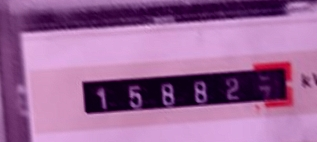1: (94, 86, 110, 111)
2: (224, 76, 240, 101)
5: (126, 83, 144, 109)
7: (257, 82, 272, 102)
8: (159, 82, 177, 109), (192, 79, 208, 105)
screen: (67, 53, 303, 130)
